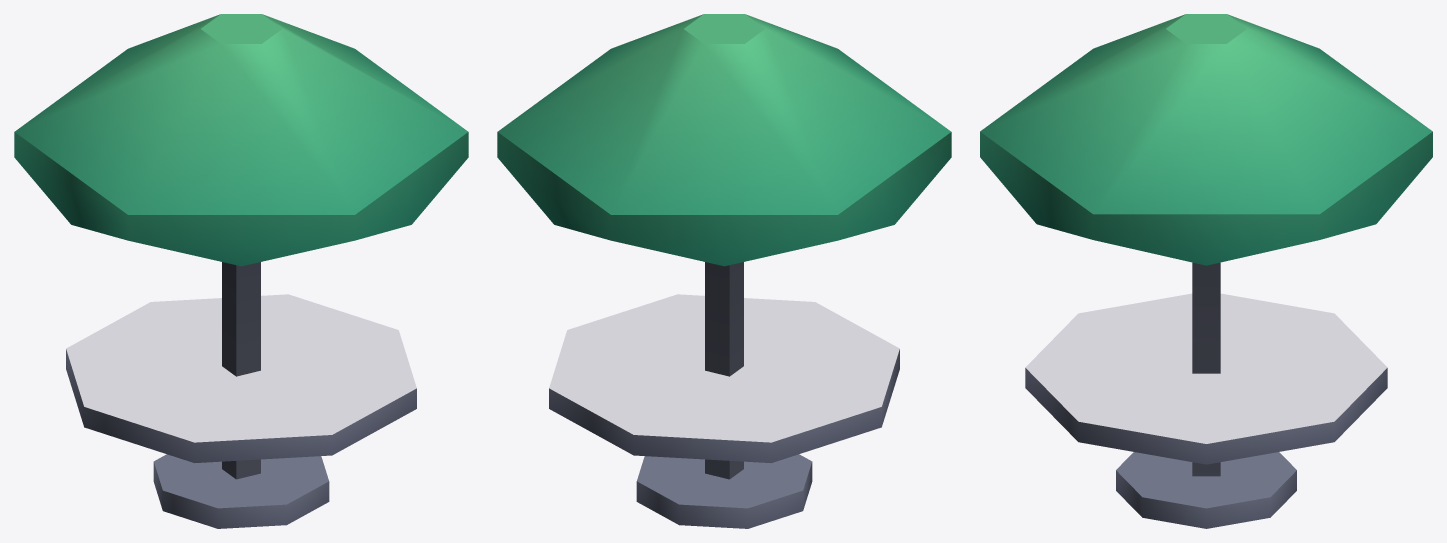
File: detail-parasol-b.glb
3 views of the same model, side by side, from view 1: azimuth 30°, elevation 25°; view 2: azimuth 150°, elevation 25°; view 3: azimuth 270°, elevation 25° (orthographic).
Visible parts, largest first — view 1: detail-parasol-b; view 2: detail-parasol-b; view 3: detail-parasol-b.
Boxes of the visible parts, <box> form: detail-parasol-b: <box>14,14,468,528</box>; detail-parasol-b: <box>497,14,951,528</box>; detail-parasol-b: <box>980,14,1432,528</box>.
Size of the model in its own units: 0.3464 by 0.45 by 0.4.
1 material, 1 textured.
